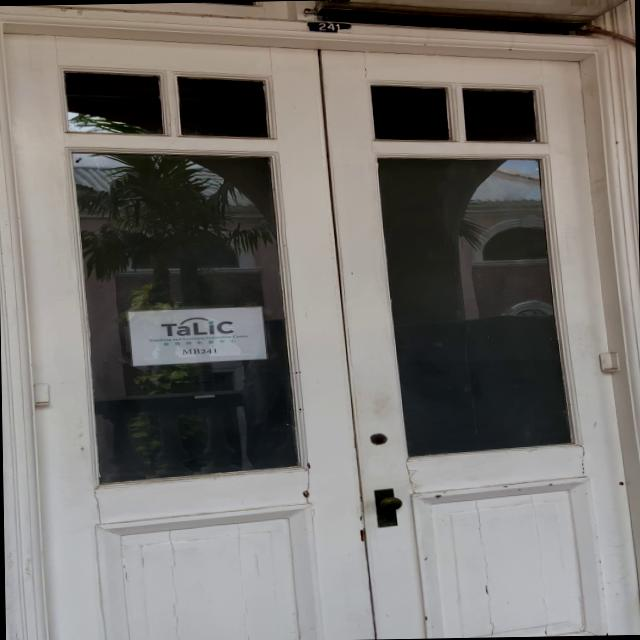room241: (308, 20, 354, 34)
